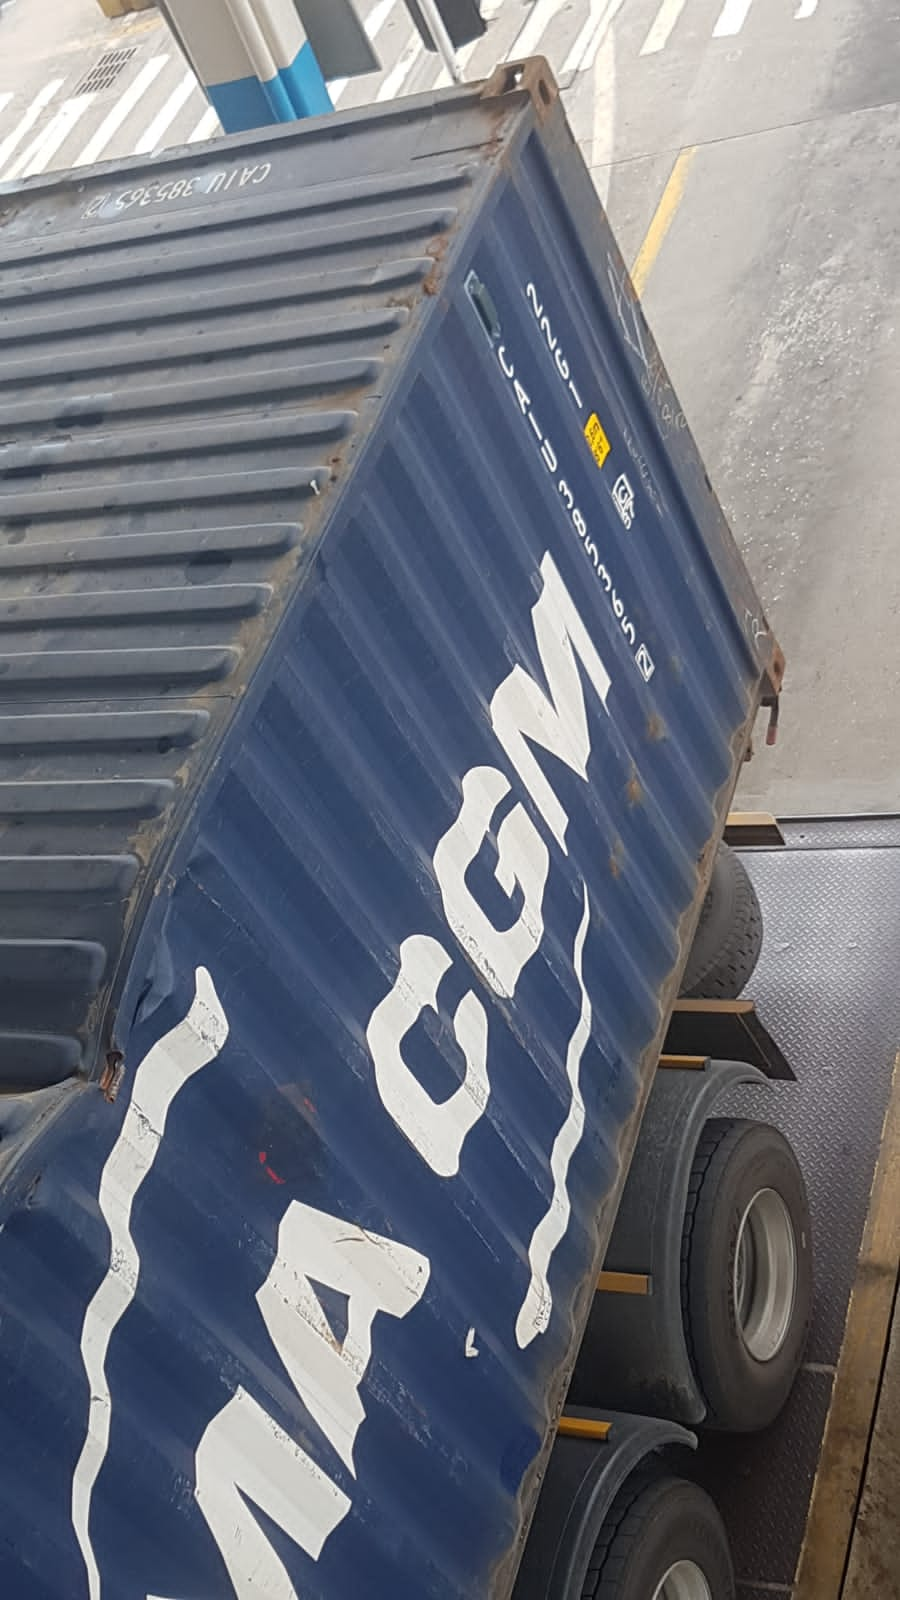moderate: (1, 962, 267, 1135)
